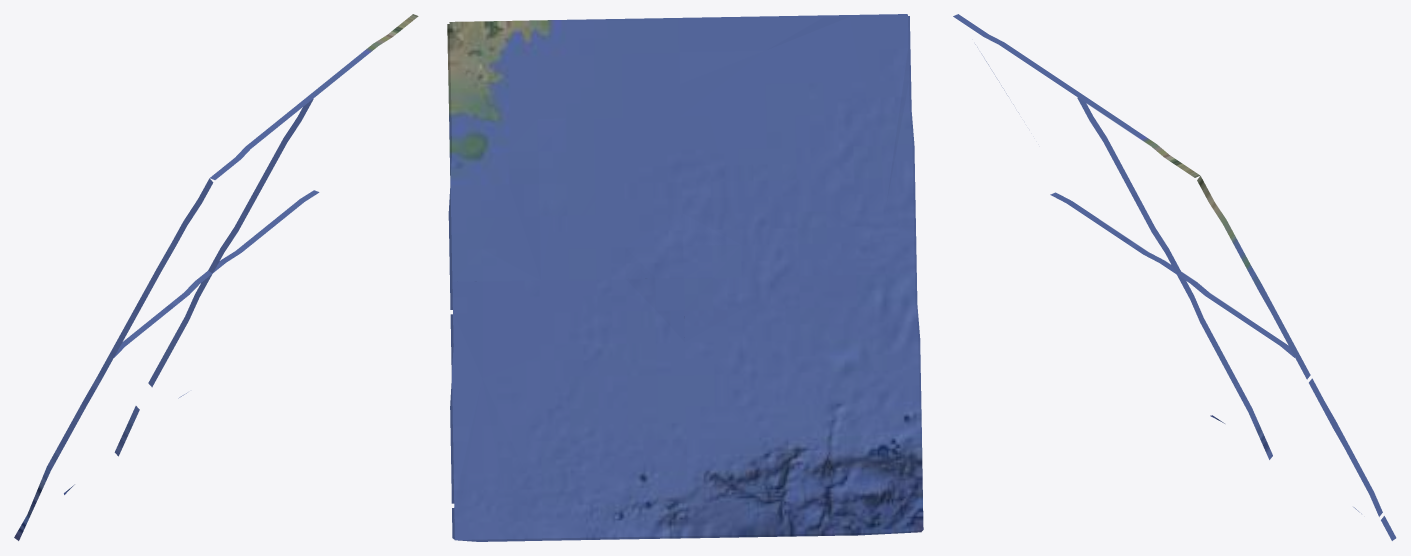
3 renders of one model, left to right at view 1: azimuth 30°, elevation 25°; view 2: azimuth 150°, elevation 25°; view 3: azimuth 270°, elevation 25°, orthographic. The views are drawn at different scales.
Bounding box in the file's own units: 314860 × 283665 × 272653.
1 material, 1 textured.
